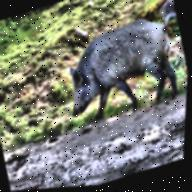boar: (44, 0, 191, 134), (156, 0, 182, 39)
